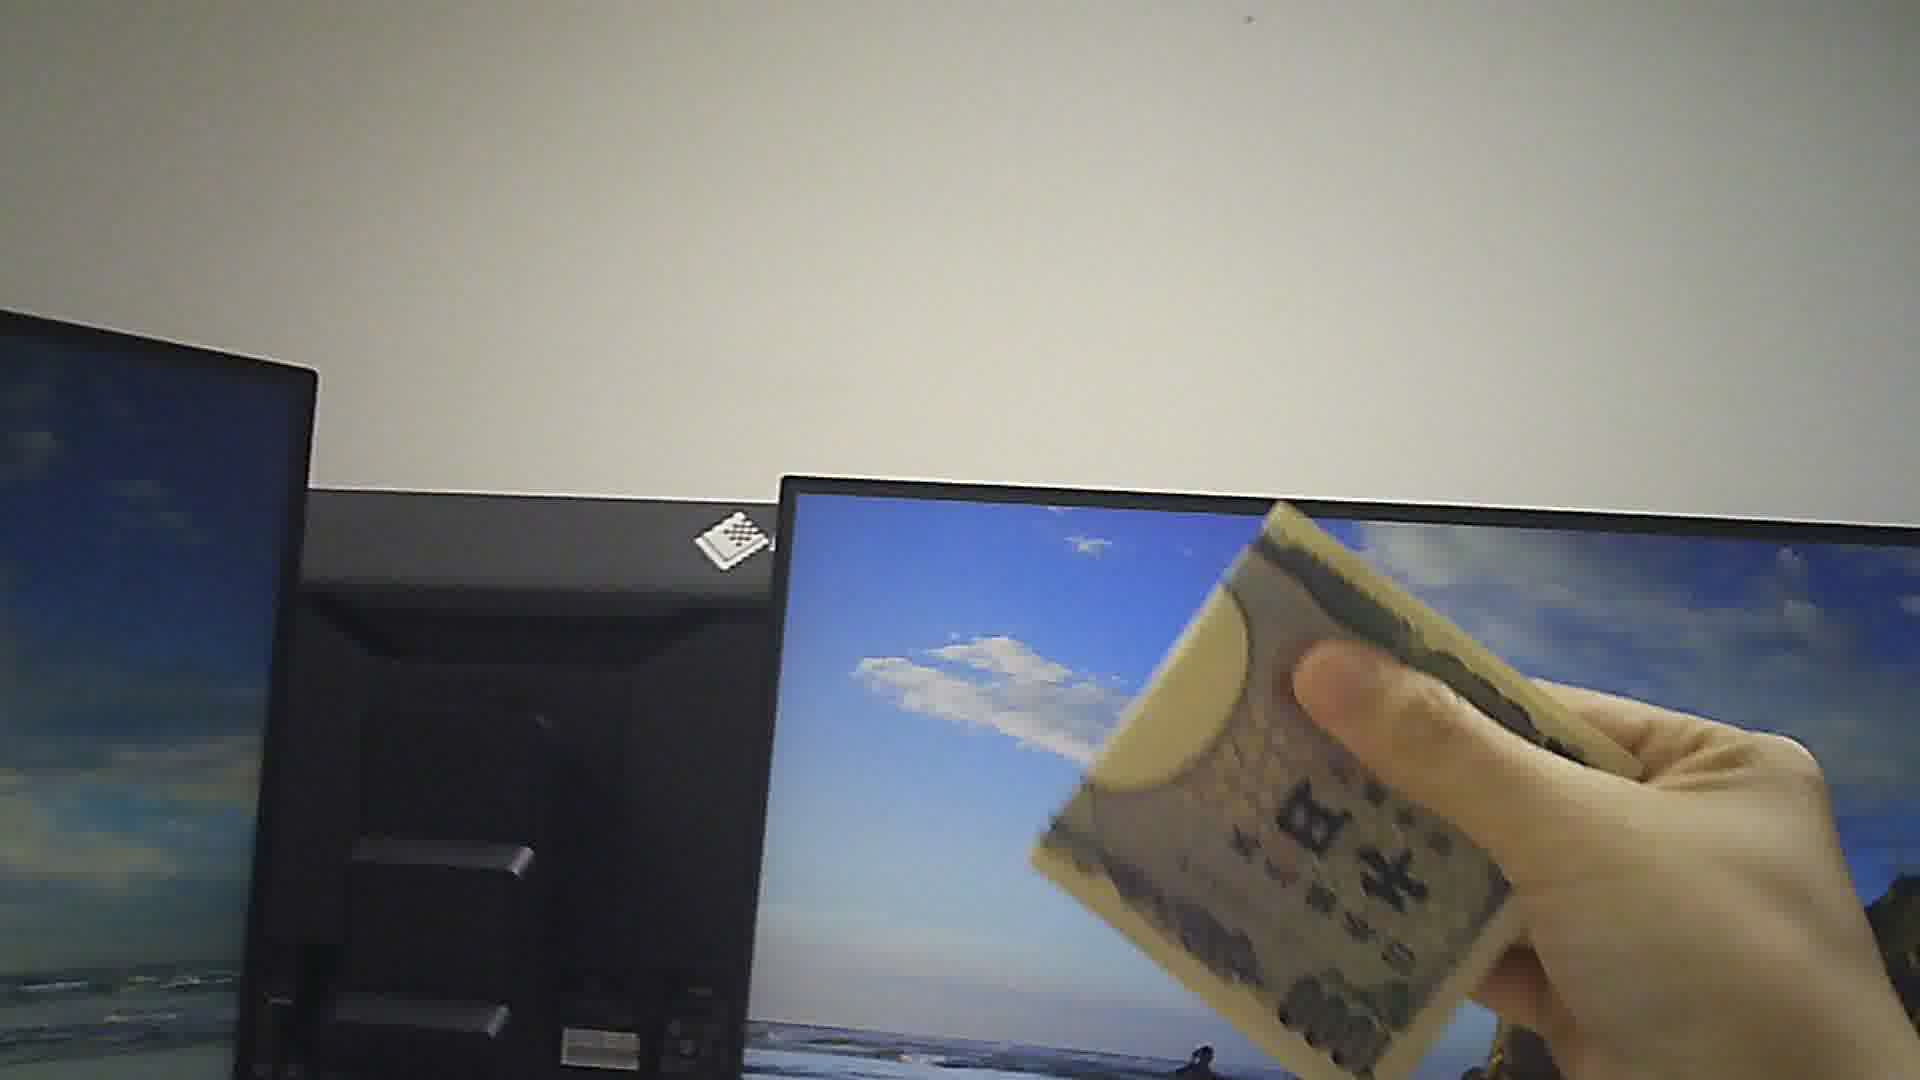1,000 Yen: (1001, 481, 1581, 1079)
